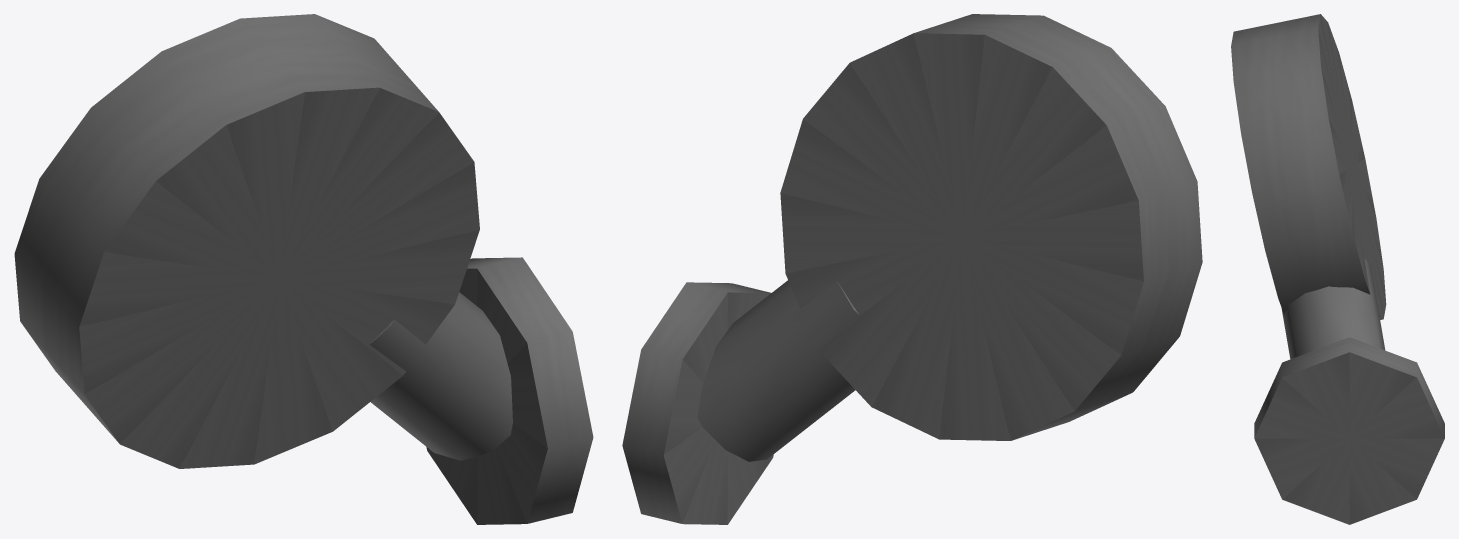
File: mastarmcurve_10x2_c5_east.obj
3 renders of one model, left to right at view 1: azimuth 30°, elevation 25°; view 2: azimuth 150°, elevation 25°; view 3: azimuth 270°, elevation 25°, orthographic. The views are drawn at different scales.
Visible parts, largest first — view 1: mastarm_10x2_c5_east; view 2: mastarm_10x2_c5_east; view 3: mastarm_10x2_c5_east.
Boxes of the visible parts, x1=… form: mastarm_10x2_c5_east: x1=14, y1=14, x2=593, y2=524; mastarm_10x2_c5_east: x1=622, y1=14, x2=1202, y2=524; mastarm_10x2_c5_east: x1=1231, y1=14, x2=1444, y2=524.
Bounding box in the file's own units: 0.8266 × 0.9157 × 0.4488.
